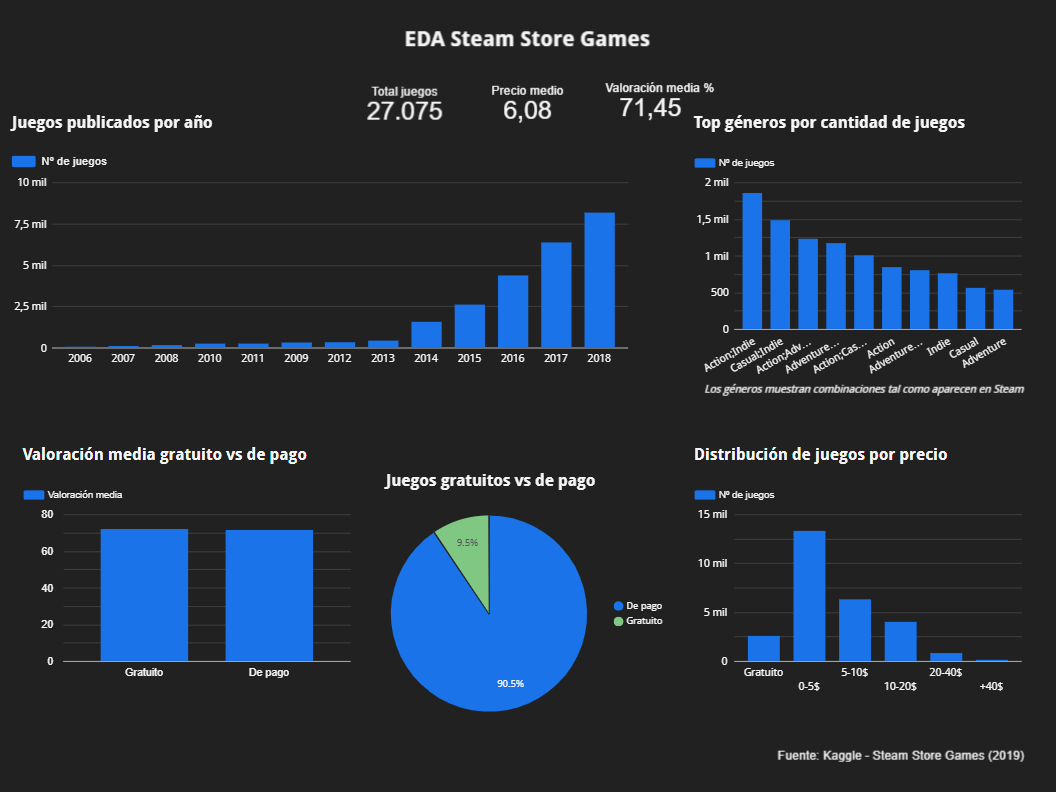

The dashboard page shown, as its layout file describes it:
{"tool":"powerbi","page":{"name":"Página 1","canvas":[1280,770],"ordinal":0},"visuals":[{"type":"lineChart","title":"Juegos publicados por año","fields":{"Category":["steam_limpio.release_year"],"Y":["CountNonNull(steam_limpio.appid)"]},"box":[23,179.2,279.2,280.4],"z":0},{"type":"barChart","title":"Géneros más populares (Top 10)","fields":{"Category":["steam_limpio.genres"],"Y":["CountNonNull(steam_limpio.appid)"]},"box":[879,63,389.5,298.7],"z":1000},{"type":"donutChart","title":"De pago vs Gratuitos","fields":{"Category":["steam_limpio.tipo_precio"],"Y":["CountNonNull(steam_limpio.appid)"]},"box":[23,489.5,307.9,280.4],"z":2000},{"type":"tableEx","fields":{"Values":["steam_limpio.name","Sum(steam_limpio.owners_mean)","steam_limpio.genres","Avg(steam_limpio.price)","steam_limpio.% Valoraciones positivas"]},"box":[383.8,371.1,862.9,214.9],"z":3000},{"type":"clusteredBarChart","title":"Precio medio por género (Top 10)","fields":{"Category":["steam_limpio.genres"],"Y":["Avg(steam_limpio.price)"]},"box":[363.1,65.9,515.9,293],"z":4000},{"type":"actionButton","box":[0,0,100,40],"z":5000},{"type":"slicer","fields":{"Values":["steam_limpio.release_year"]},"box":[1033,649.2,213.7,97.7],"z":6000},{"type":"slicer","fields":{"Values":["steam_limpio.tipo_precio"]},"box":[906.6,649.2,126.4,97.7],"z":7000},{"type":"textbox","box":[489.5,19.5,299.9,32.2],"z":8000},{"type":"cardVisual","fields":{"Data":["steam_limpio.Total juegos"]},"box":[50.6,40.2,152.8,97.7],"z":9000},{"type":"clusteredBarChart","title":"Juegos por rango de precio","fields":{"Category":["steam_limpio.Rango de precio"],"Y":["steam_limpio.Total juegos"]},"box":[389.5,604.4,290.7,165.5],"z":10000}]}

Visuals, with their boxes on the page's 1280x770 design canvas (x1, y1, x2, y2). These are canvas units, not pixel positions in the 1056x792 screenshot, which may show the page scaled, cropped or inside an application window:
"Juegos publicados por año" lineChart: l=23, t=179, r=302, b=460
"Géneros más populares (Top 10)" barChart: l=879, t=63, r=1268, b=362
"De pago vs Gratuitos" donutChart: l=23, t=490, r=331, b=770
tableEx - steam_limpio.name x Sum(steam_limpio.owners_mean): l=384, t=371, r=1247, b=586
"Precio medio por género (Top 10)" clusteredBarChart: l=363, t=66, r=879, b=359
actionButton: l=0, t=0, r=100, b=40
slicer - steam_limpio.release_year: l=1033, t=649, r=1247, b=747
slicer - steam_limpio.tipo_precio: l=907, t=649, r=1033, b=747
textbox: l=490, t=20, r=789, b=52
cardVisual - steam_limpio.Total juegos: l=51, t=40, r=203, b=138
"Juegos por rango de precio" clusteredBarChart: l=390, t=604, r=680, b=770
